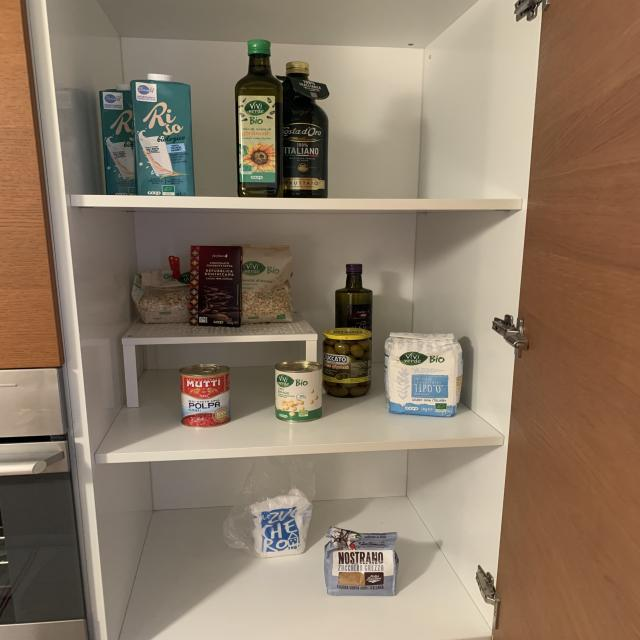chickpeas: (277, 362, 323, 423)
chocolate: (190, 246, 242, 327)
flour: (384, 331, 464, 418)
milk: (133, 75, 196, 195), (103, 88, 134, 194)
oats: (241, 246, 296, 323), (130, 272, 189, 325)
oil: (236, 38, 282, 196), (278, 62, 329, 197), (337, 264, 372, 330)
olives: (325, 339, 371, 397)
sugar: (323, 527, 399, 595), (250, 490, 308, 557)
tomato_sauce: (179, 368, 229, 426)
